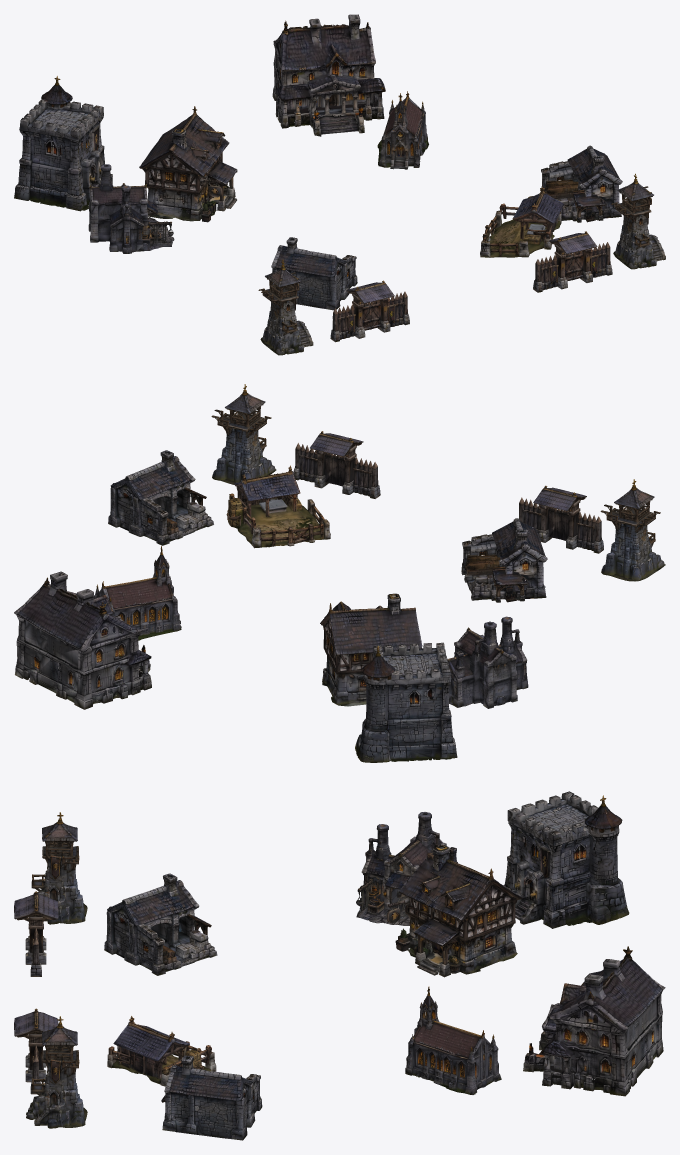
The model's file is town.glb.
3 views of the same model, one above another, from view 1: azimuth 30°, elevation 25°; view 2: azimuth 150°, elevation 25°; view 3: azimuth 270°, elevation 25° (orthographic). The views are drawn at different scales.
Parts seen in each view (by area): view 1: tripo_node_097b1c53-89a4-441d-952b-96901d706ddc, tripo_node_c734f18e-27a4-4c9c-8fac-990196a8f00d, tripo_node_bd136ecc-58fa-4761-b921-9373271b4fde, tripo_node_981a6e52-eed9-44ad-85c6-01b76abba094, tripo_node_d6a47007-00e0-468a-8086-0317b500f43a2, tripo_node_a6e2cb6d-843f-4073-af24-3c14b2e3cc81, tripo_node_d6a47007-00e0-468a-8086-0317b500f43a, tripo_node_be21c903-b118-44bc-8d69-18b5f38aa4f8, tripo_node_be21c903-b118-44bc-8d69-18b5f38aa4f82, tripo_node_453efe89-3591-4c3b-b2e4-5956c3554081, tripo_node_453efe89-3591-4c3b-b2e4-5956c35540812, tripo_node_f1f5ecea-4eac-487a-99b3-0cc9a83e139a; view 2: tripo_node_097b1c53-89a4-441d-952b-96901d706ddc, tripo_node_c734f18e-27a4-4c9c-8fac-990196a8f00d, tripo_node_bd136ecc-58fa-4761-b921-9373271b4fde, tripo_node_d6a47007-00e0-468a-8086-0317b500f43a2, tripo_node_d6a47007-00e0-468a-8086-0317b500f43a, tripo_node_a6e2cb6d-843f-4073-af24-3c14b2e3cc81, tripo_node_981a6e52-eed9-44ad-85c6-01b76abba094, tripo_node_453efe89-3591-4c3b-b2e4-5956c3554081, tripo_node_f1f5ecea-4eac-487a-99b3-0cc9a83e139a, tripo_node_be21c903-b118-44bc-8d69-18b5f38aa4f82, tripo_node_453efe89-3591-4c3b-b2e4-5956c35540812, tripo_node_be21c903-b118-44bc-8d69-18b5f38aa4f8; view 3: tripo_node_c734f18e-27a4-4c9c-8fac-990196a8f00d, tripo_node_097b1c53-89a4-441d-952b-96901d706ddc, tripo_node_bd136ecc-58fa-4761-b921-9373271b4fde, tripo_node_d6a47007-00e0-468a-8086-0317b500f43a, tripo_node_d6a47007-00e0-468a-8086-0317b500f43a2, tripo_node_f1f5ecea-4eac-487a-99b3-0cc9a83e139a, tripo_node_981a6e52-eed9-44ad-85c6-01b76abba094, tripo_node_453efe89-3591-4c3b-b2e4-5956c35540812, tripo_node_a6e2cb6d-843f-4073-af24-3c14b2e3cc81, tripo_node_453efe89-3591-4c3b-b2e4-5956c3554081, tripo_node_be21c903-b118-44bc-8d69-18b5f38aa4f8, tripo_node_be21c903-b118-44bc-8d69-18b5f38aa4f82.
Part boxes in pixels (left/top/right/bottom): tripo_node_097b1c53-89a4-441d-952b-96901d706ddc: left=272, top=14, right=385, bottom=136; tripo_node_c734f18e-27a4-4c9c-8fac-990196a8f00d: left=14, top=76, right=104, bottom=211; tripo_node_bd136ecc-58fa-4761-b921-9373271b4fde: left=139, top=106, right=237, bottom=222; tripo_node_981a6e52-eed9-44ad-85c6-01b76abba094: left=88, top=164, right=174, bottom=253; tripo_node_d6a47007-00e0-468a-8086-0317b500f43a2: left=541, top=145, right=622, bottom=222; tripo_node_a6e2cb6d-843f-4073-af24-3c14b2e3cc81: left=480, top=186, right=563, bottom=257; tripo_node_d6a47007-00e0-468a-8086-0317b500f43a: left=271, top=237, right=357, bottom=310; tripo_node_be21c903-b118-44bc-8d69-18b5f38aa4f8: left=330, top=280, right=409, bottom=342; tripo_node_be21c903-b118-44bc-8d69-18b5f38aa4f82: left=533, top=231, right=612, bottom=292; tripo_node_453efe89-3591-4c3b-b2e4-5956c3554081: left=258, top=260, right=313, bottom=355; tripo_node_453efe89-3591-4c3b-b2e4-5956c35540812: left=611, top=173, right=665, bottom=269; tripo_node_f1f5ecea-4eac-487a-99b3-0cc9a83e139a: left=377, top=91, right=428, bottom=169; tripo_node_097b1c53-89a4-441d-952b-96901d706ddc: left=14, top=571, right=151, bottom=709; tripo_node_c734f18e-27a4-4c9c-8fac-990196a8f00d: left=355, top=642, right=457, bottom=762; tripo_node_bd136ecc-58fa-4761-b921-9373271b4fde: left=320, top=593, right=422, bottom=706; tripo_node_d6a47007-00e0-468a-8086-0317b500f43a2: left=108, top=450, right=213, bottom=545; tripo_node_d6a47007-00e0-468a-8086-0317b500f43a: left=461, top=518, right=547, bottom=602; tripo_node_a6e2cb6d-843f-4073-af24-3c14b2e3cc81: left=226, top=465, right=330, bottom=548; tripo_node_981a6e52-eed9-44ad-85c6-01b76abba094: left=447, top=616, right=528, bottom=708; tripo_node_453efe89-3591-4c3b-b2e4-5956c3554081: left=600, top=479, right=665, bottom=581; tripo_node_f1f5ecea-4eac-487a-99b3-0cc9a83e139a: left=93, top=546, right=181, bottom=640; tripo_node_be21c903-b118-44bc-8d69-18b5f38aa4f82: left=293, top=431, right=380, bottom=498; tripo_node_453efe89-3591-4c3b-b2e4-5956c35540812: left=211, top=384, right=276, bottom=484; tripo_node_be21c903-b118-44bc-8d69-18b5f38aa4f8: left=519, top=485, right=603, bottom=553; tripo_node_c734f18e-27a4-4c9c-8fac-990196a8f00d: left=503, top=791, right=629, bottom=928; tripo_node_097b1c53-89a4-441d-952b-96901d706ddc: left=523, top=946, right=665, bottom=1096; tripo_node_bd136ecc-58fa-4761-b921-9373271b4fde: left=387, top=845, right=522, bottom=977; tripo_node_d6a47007-00e0-468a-8086-0317b500f43a: left=104, top=873, right=217, bottom=975; tripo_node_d6a47007-00e0-468a-8086-0317b500f43a2: left=161, top=1055, right=262, bottom=1140; tripo_node_f1f5ecea-4eac-487a-99b3-0cc9a83e139a: left=405, top=986, right=501, bottom=1094; tripo_node_981a6e52-eed9-44ad-85c6-01b76abba094: left=356, top=812, right=457, bottom=925; tripo_node_453efe89-3591-4c3b-b2e4-5956c35540812: left=26, top=1016, right=87, bottom=1128; tripo_node_a6e2cb6d-843f-4073-af24-3c14b2e3cc81: left=107, top=1016, right=216, bottom=1086; tripo_node_453efe89-3591-4c3b-b2e4-5956c3554081: left=31, top=812, right=87, bottom=924; tripo_node_be21c903-b118-44bc-8d69-18b5f38aa4f8: left=14, top=891, right=58, bottom=976; tripo_node_be21c903-b118-44bc-8d69-18b5f38aa4f82: left=14, top=1008, right=58, bottom=1094.
Size of the model in its own units: 24.22 by 5.07 by 25.38.
9 materials, 9 textured.
